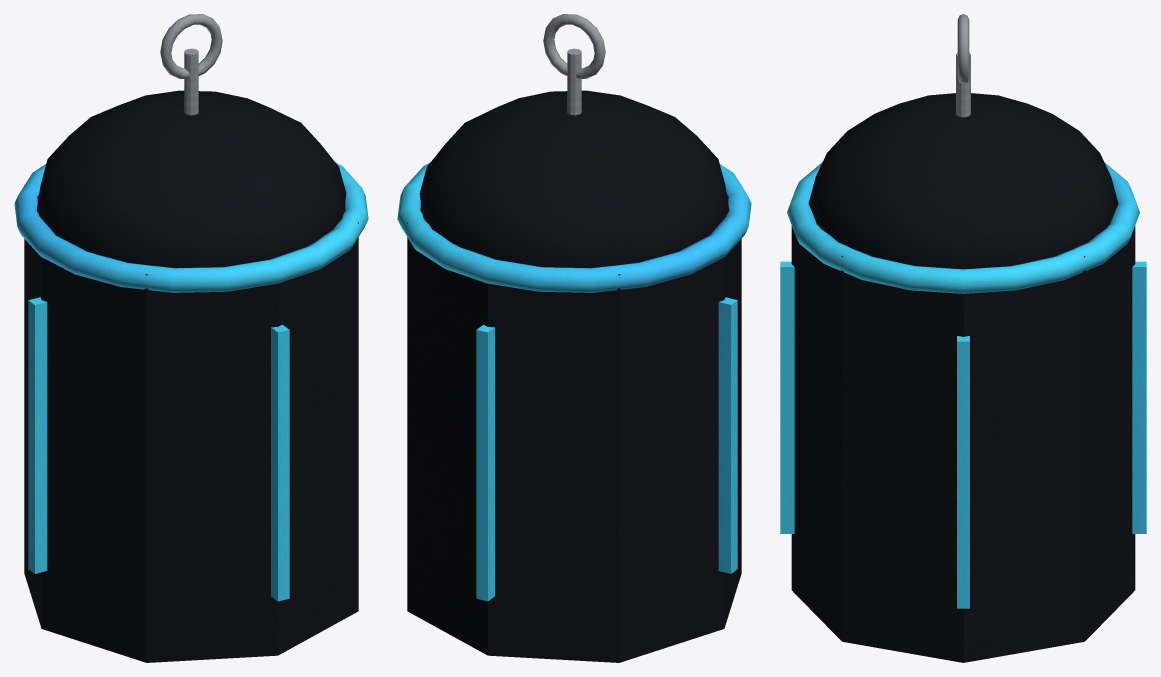
The model's file is emp_grenade.fbx.
3 renders of one model, left to right at view 1: azimuth 30°, elevation 25°; view 2: azimuth 150°, elevation 25°; view 3: azimuth 270°, elevation 25°, orthographic.
Parts seen in each view (by area): view 1: EmpGrenadeMesh; view 2: EmpGrenadeMesh; view 3: EmpGrenadeMesh.
Boxes of the visible parts, bbox=[...] form: EmpGrenadeMesh: bbox=[14, 14, 368, 662]; EmpGrenadeMesh: bbox=[397, 14, 751, 662]; EmpGrenadeMesh: bbox=[780, 14, 1146, 662].
Size of the model in its own units: 5.69 by 5.69 by 9.82.
